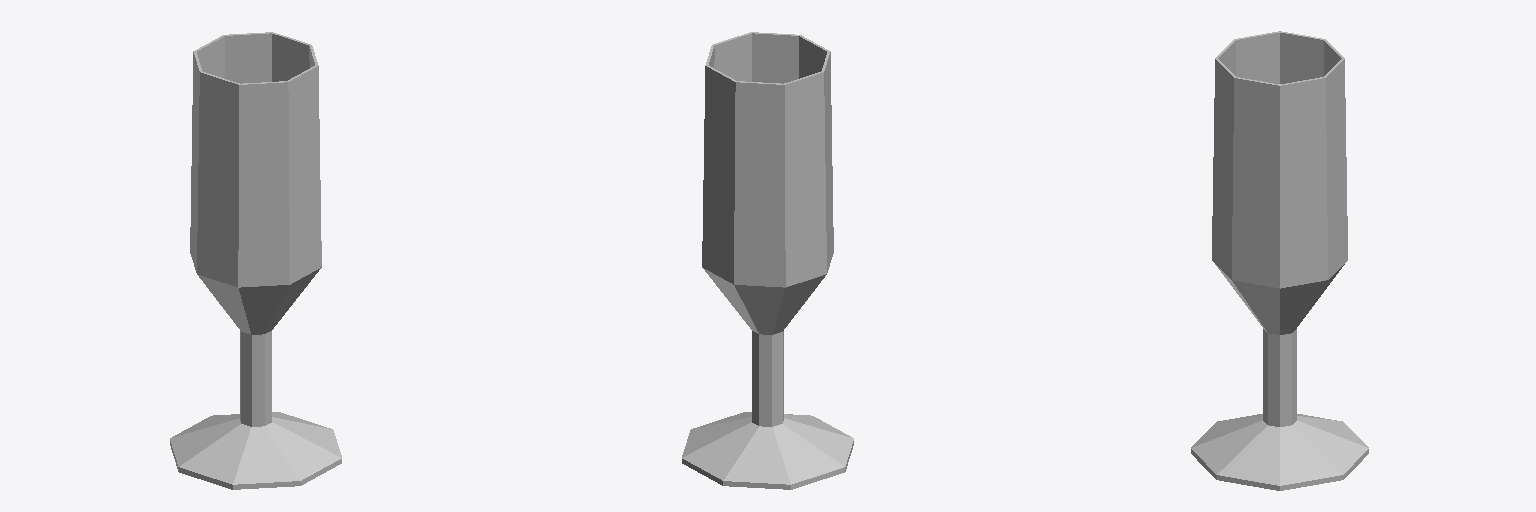
File: tablecupchampagneglass01.obj
3 views of the same model, side by side, from view 1: azimuth 30°, elevation 25°; view 2: azimuth 150°, elevation 25°; view 3: azimuth 270°, elevation 25° (orthographic).
Parts seen in each view (by area): view 1: Cylinder_Cylinder.001; view 2: Cylinder_Cylinder.001; view 3: Cylinder_Cylinder.001.
Part boxes in pixels (bbox=[...]): Cylinder_Cylinder.001: bbox=[170, 32, 341, 489]; Cylinder_Cylinder.001: bbox=[682, 32, 853, 489]; Cylinder_Cylinder.001: bbox=[1191, 31, 1368, 490].
Size of the model in its own units: 0.0678 by 0.1653 by 0.0678.